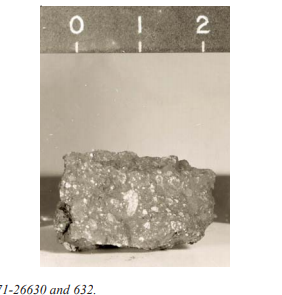Breccia: (60, 138, 225, 260), (103, 186, 179, 233)
